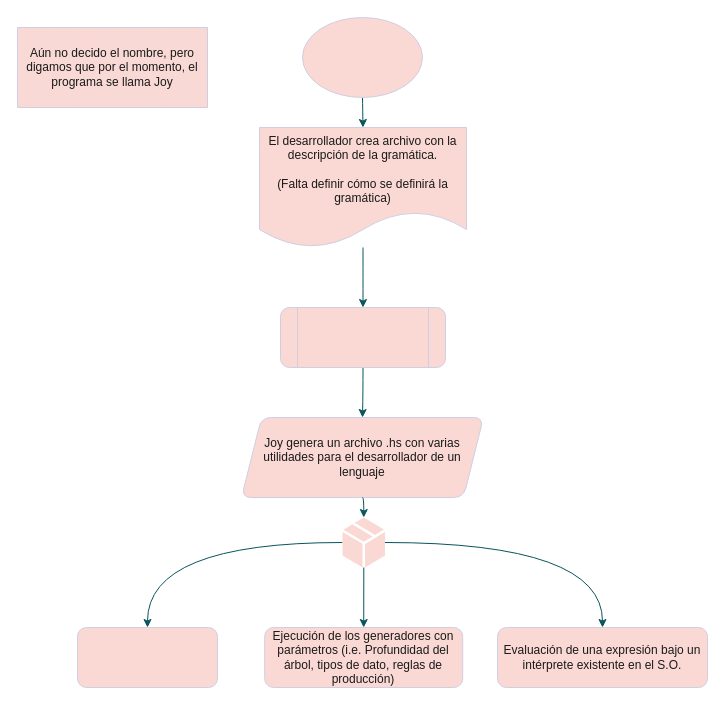
This 725x705 diagram has some shape labels left out. The shapes that lost their labels are listed below. From the top down, each one's centre as x and y in pixels, then its label:
[362,57]: Inicio
[363,337]: Joy lee el archivo con la gramática
[147,657]: Generadores (Mónada Gen o Random)
